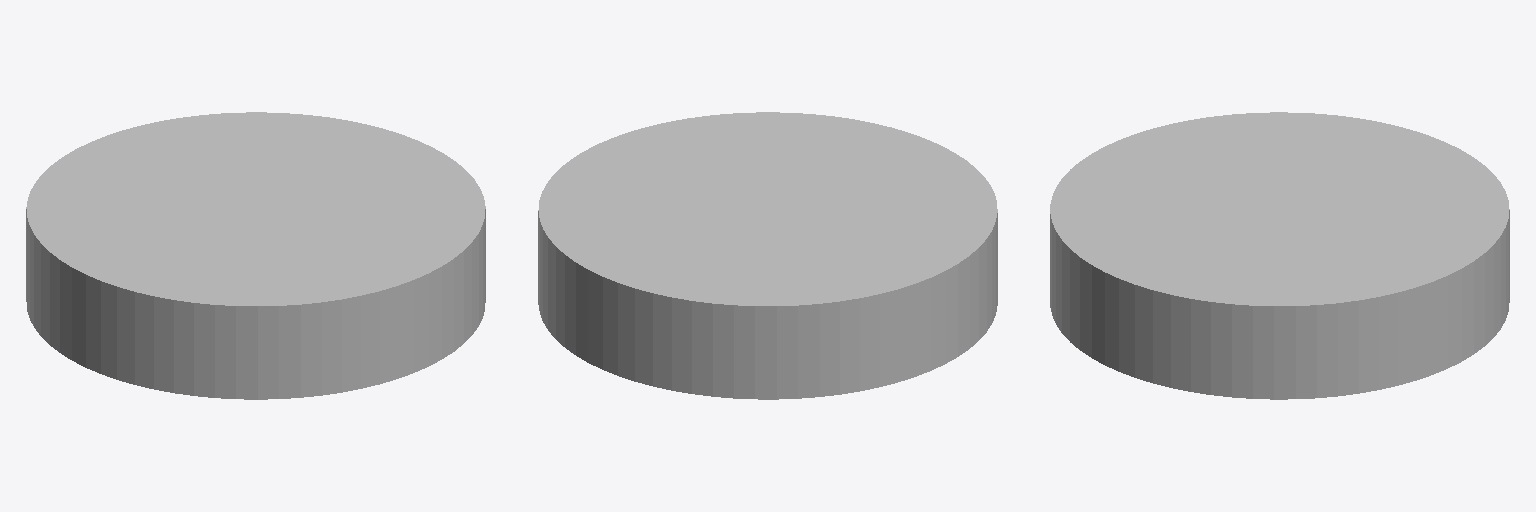
The model's file is Base_PollFoll.obj.
3 renders of one model, left to right at view 1: azimuth 30°, elevation 25°; view 2: azimuth 150°, elevation 25°; view 3: azimuth 270°, elevation 25°, orthographic.
Visible parts, largest first — view 1: Circle.004; view 2: Circle.004; view 3: Circle.004.
Boxes of the visible parts, x1=… form: Circle.004: x1=26, y1=112, x2=485, y2=399; Circle.004: x1=538, y1=112, x2=997, y2=399; Circle.004: x1=1050, y1=112, x2=1509, y2=399.
Bounding box in the file's own units: 0.075 × 0.0168 × 0.075.